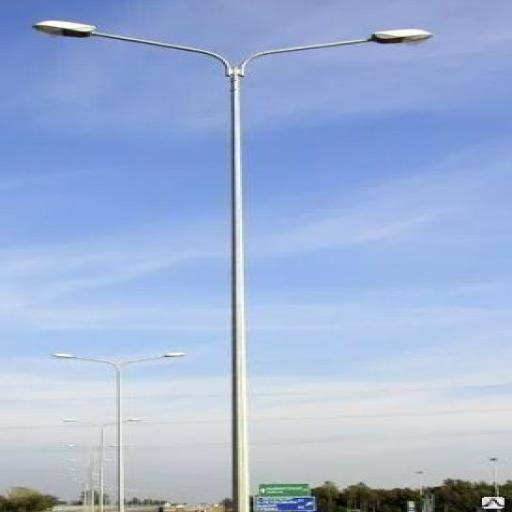Light-pole: (36, 9, 471, 512), (43, 346, 180, 508)
